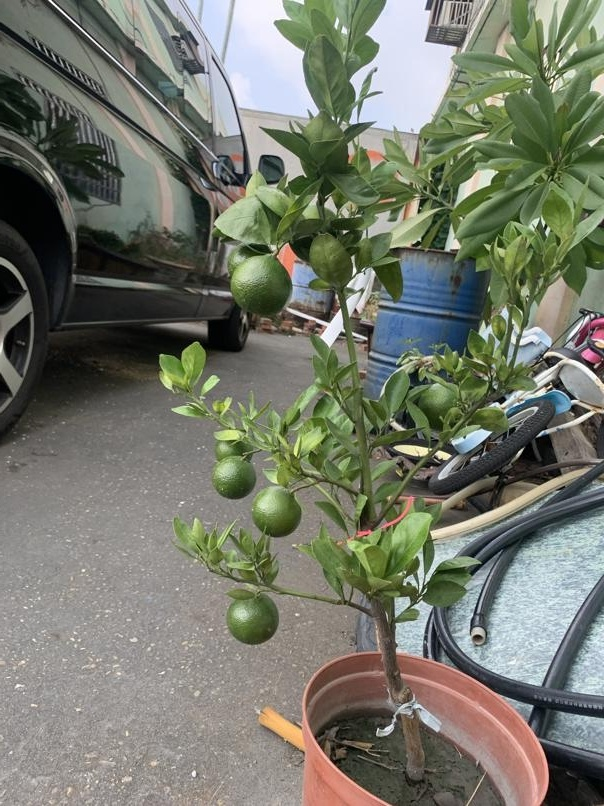Tangerine: (227, 245, 293, 320), (222, 584, 285, 648), (252, 482, 302, 540), (212, 452, 258, 501)
